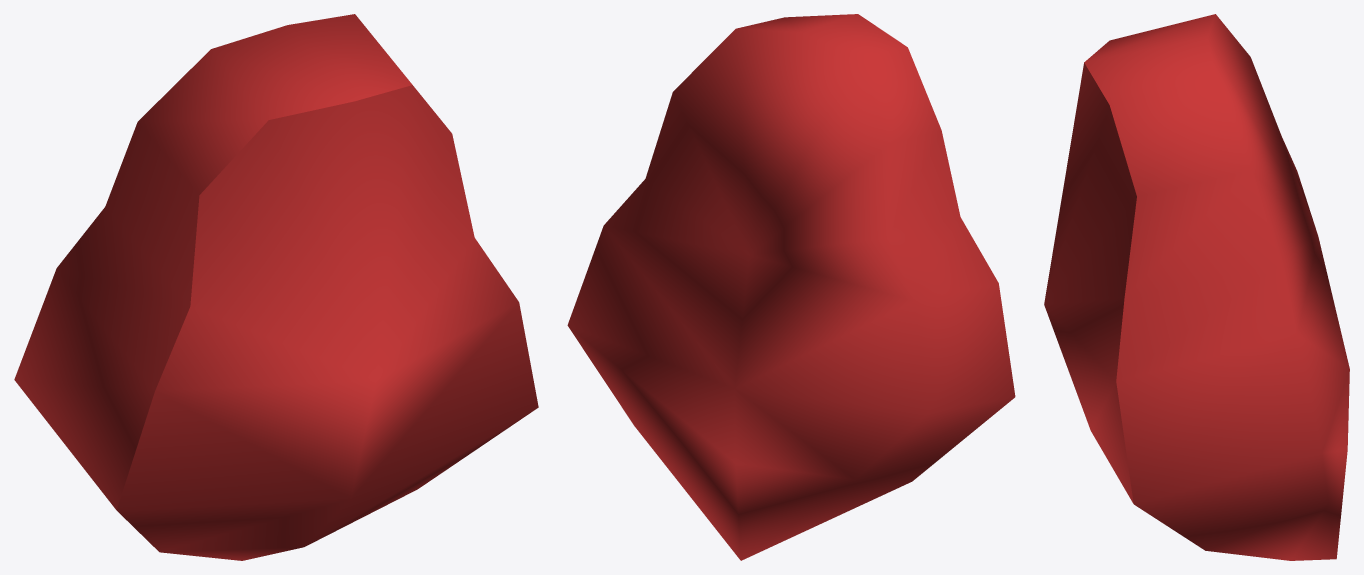
File: Beard_Red_2.fbx
3 views of the same model, side by side, from view 1: azimuth 30°, elevation 25°; view 2: azimuth 150°, elevation 25°; view 3: azimuth 270°, elevation 25° (orthographic). The views are drawn at different scales.
Parts seen in each view (by area): view 1: Beard_Red_2; view 2: Beard_Red_2; view 3: Beard_Red_2.
Part boxes in pixels (x1,y1,x2,y2): Beard_Red_2: (14, 14, 538, 560); Beard_Red_2: (567, 14, 1015, 560); Beard_Red_2: (1044, 14, 1349, 560).
Size of the model in its own units: 9.51 by 12.25 by 6.48.
